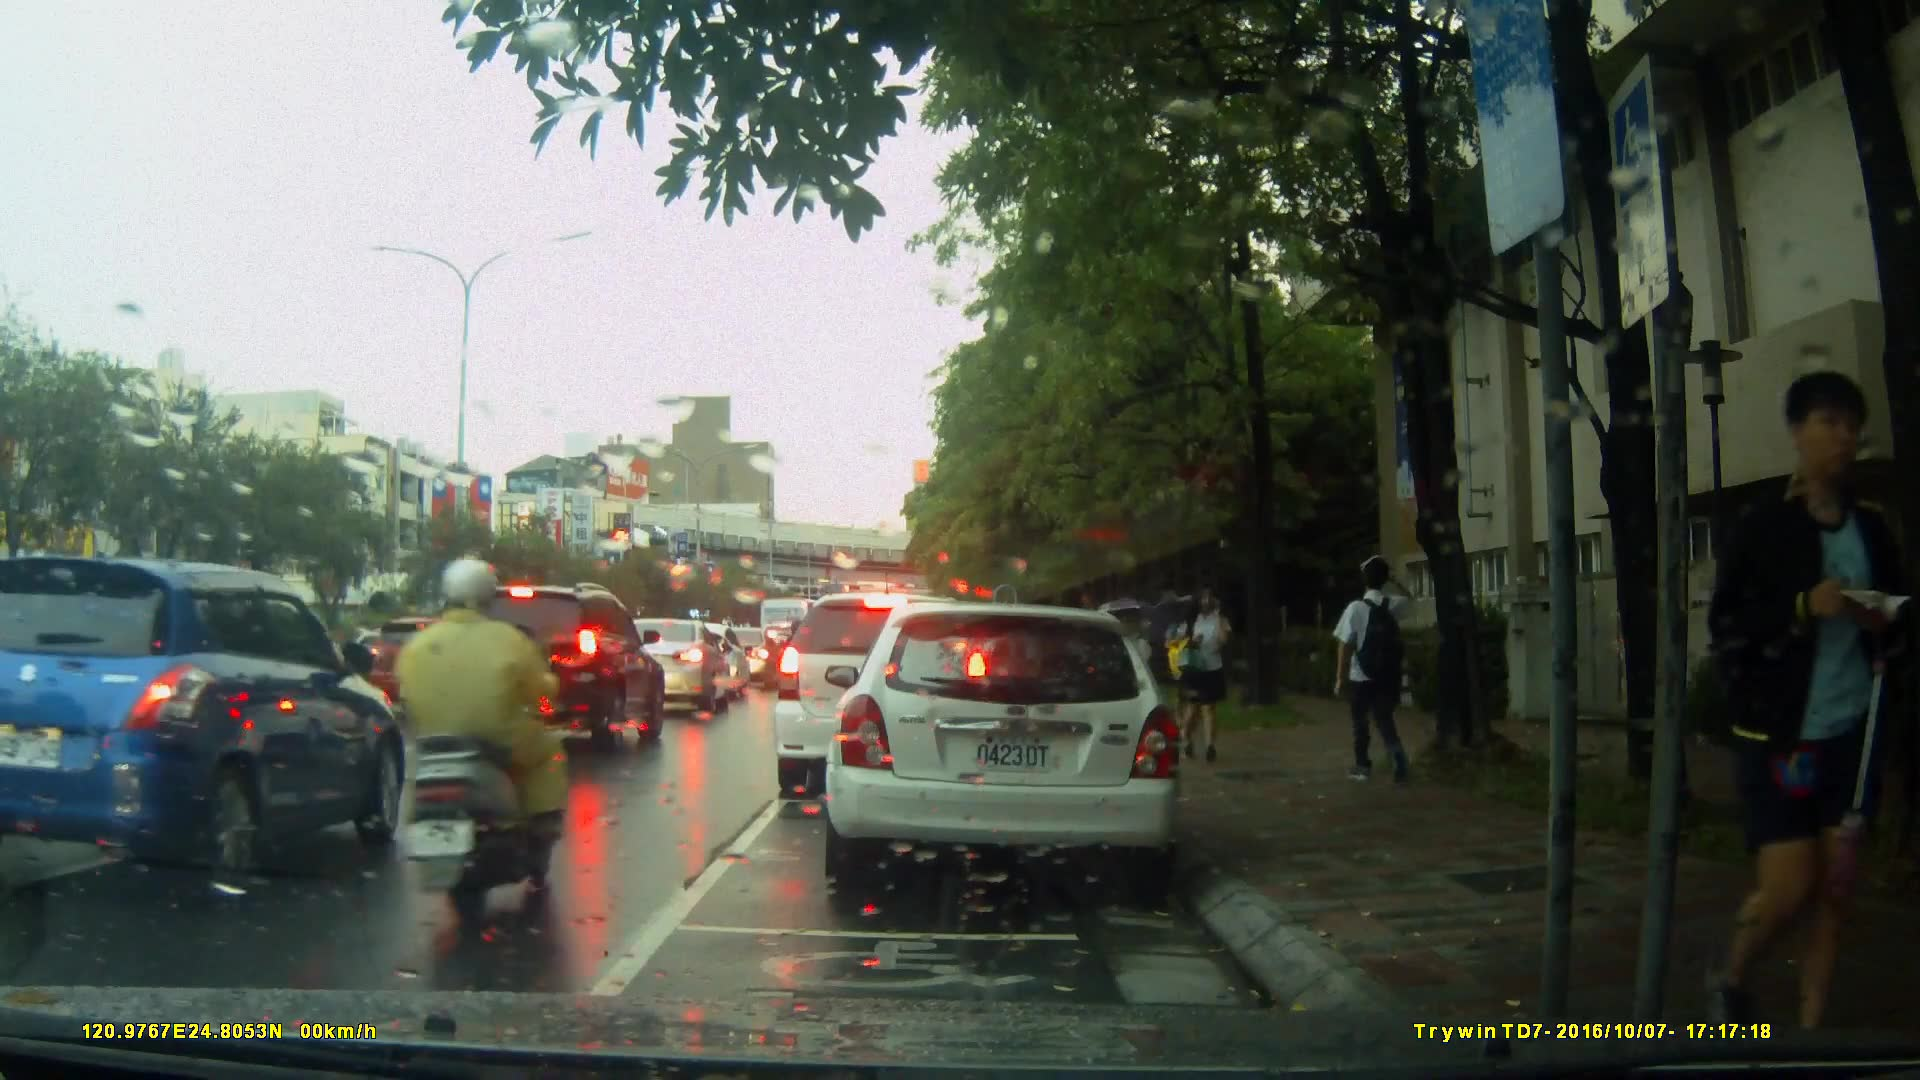pedestrian: (1728, 381, 1878, 1036), (1320, 545, 1428, 792), (1169, 568, 1233, 760), (1165, 588, 1209, 742)
rider: (387, 557, 572, 927)
vehicle: (1, 556, 419, 895), (815, 593, 1202, 904), (771, 590, 995, 802), (434, 583, 670, 758), (359, 612, 521, 716), (595, 616, 730, 720)
